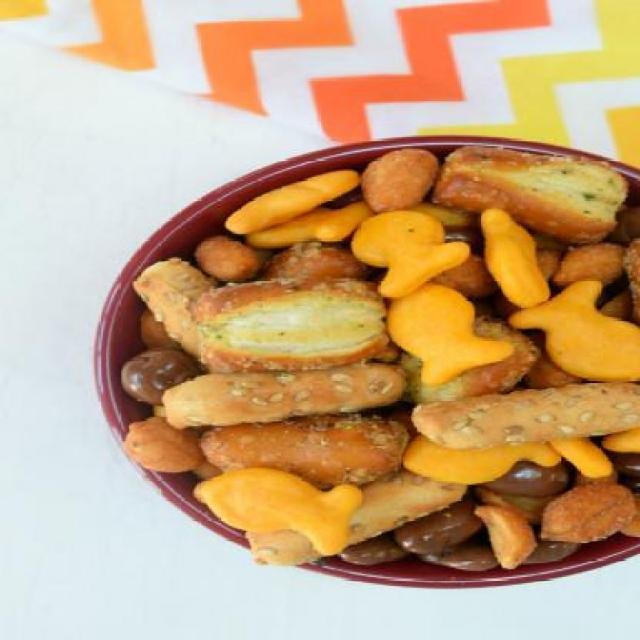Salatini packaged: (115, 146, 640, 560)
